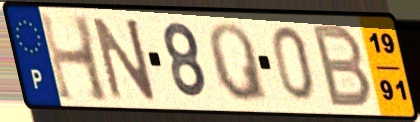0: (269, 22, 321, 106)
8: (161, 20, 210, 102)
B: (310, 22, 375, 110)
H: (36, 9, 113, 105)
N: (89, 15, 159, 102)
Q: (205, 20, 272, 105)
